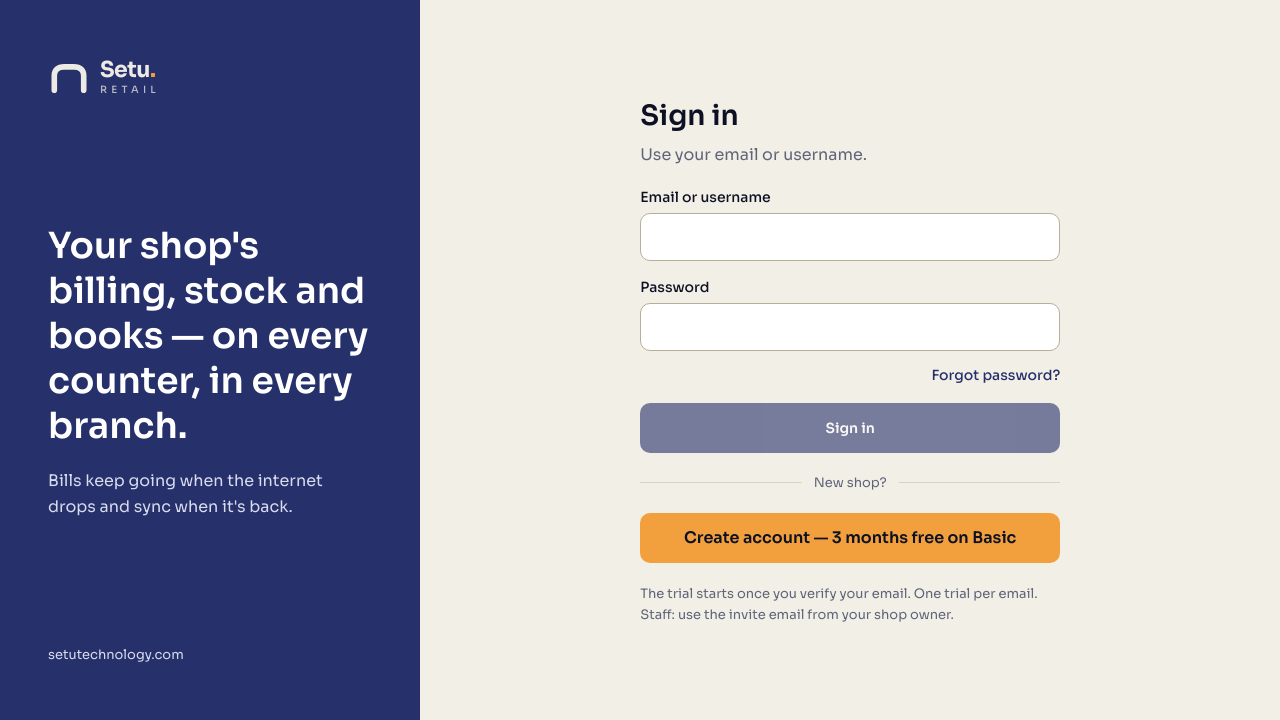
Test: signing in › explains an unverified email and offers to resend
In the field labelled "Email or username": (850, 237) [640,213,1060,261], type "a@x.com"
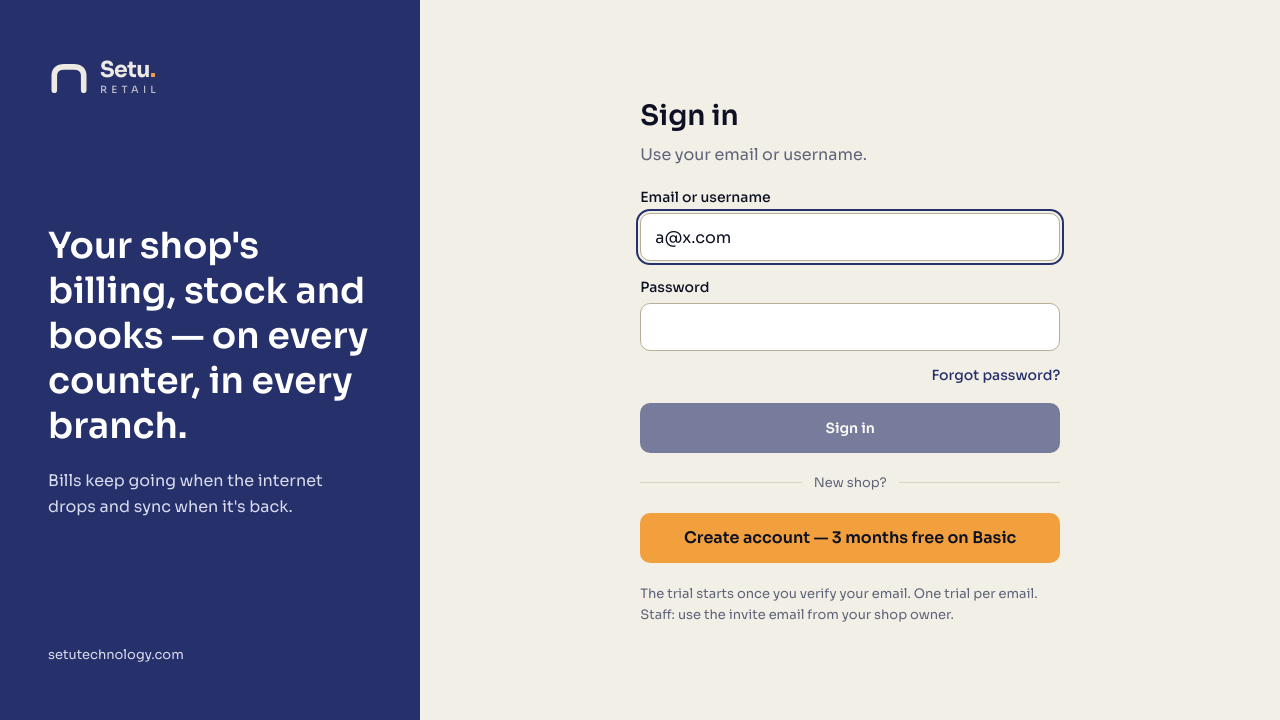
In the password field labelled "Password": (850, 327) [640,303,1060,351], type "whatever-1"
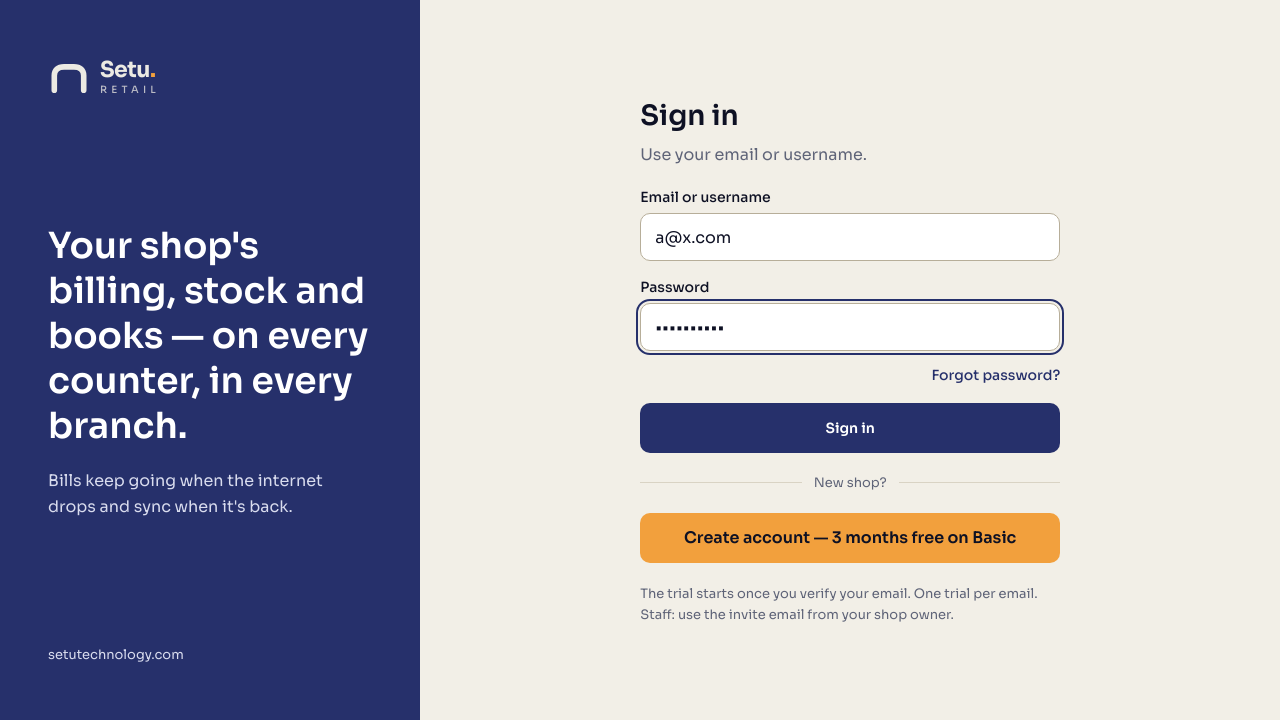
Click the button "Sign in": (850, 428) [640,403,1060,453]
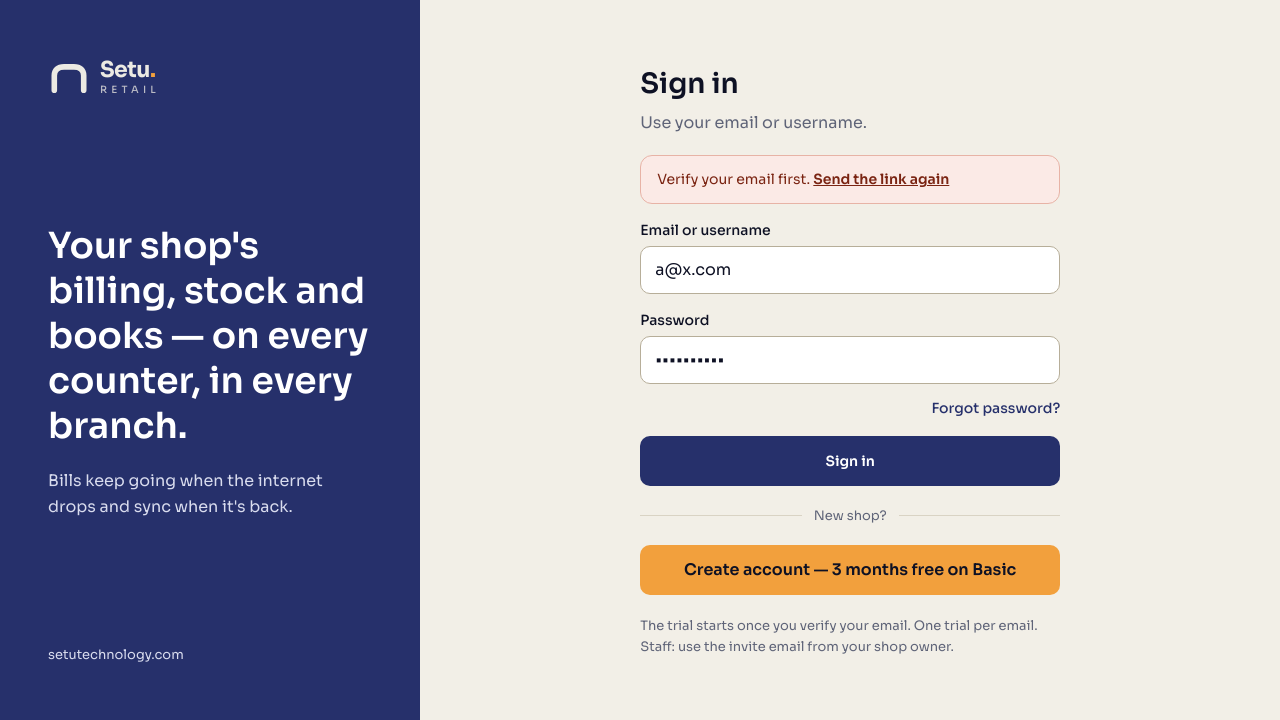
Click the button "Send the link again": (881, 179) [813,168,949,191]
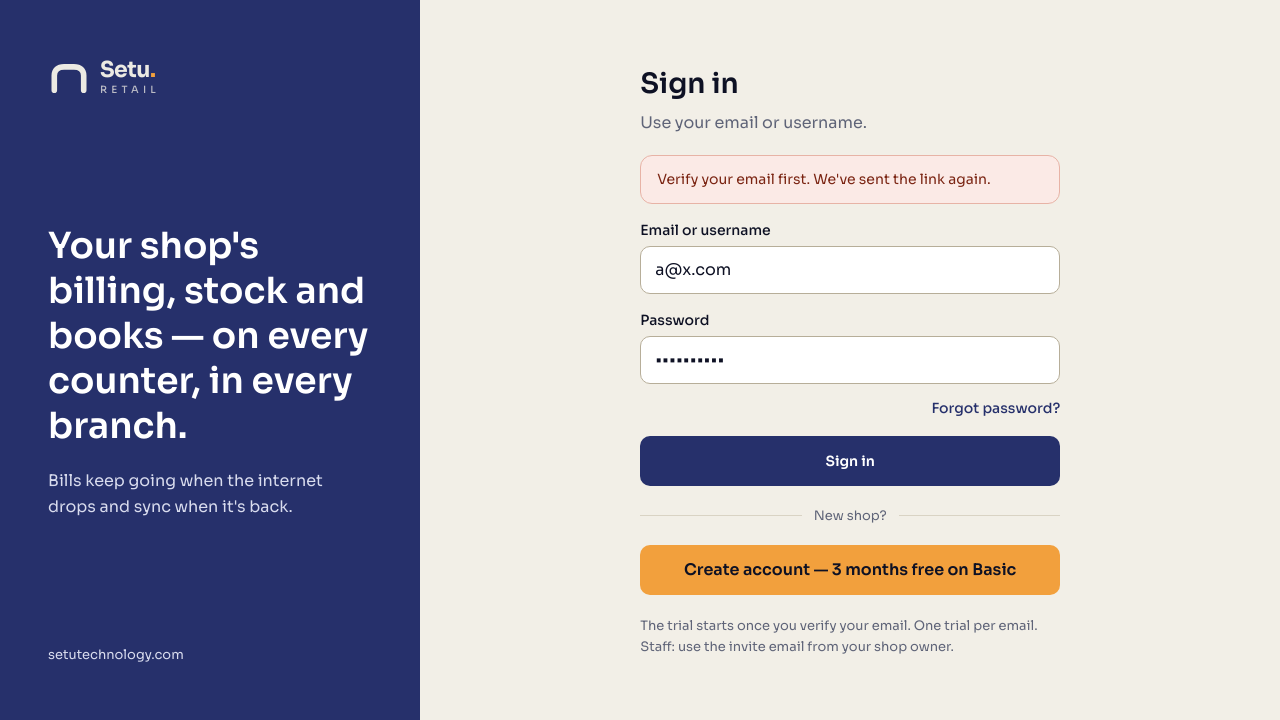
Result: the text "Verify your email first. We've sent the link again." is shown at [640,155,1060,204]
